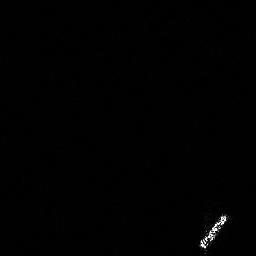ship: (195, 210, 232, 253)
